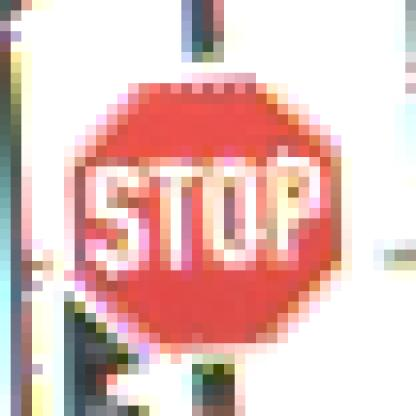Stop: (66, 74, 346, 359)
